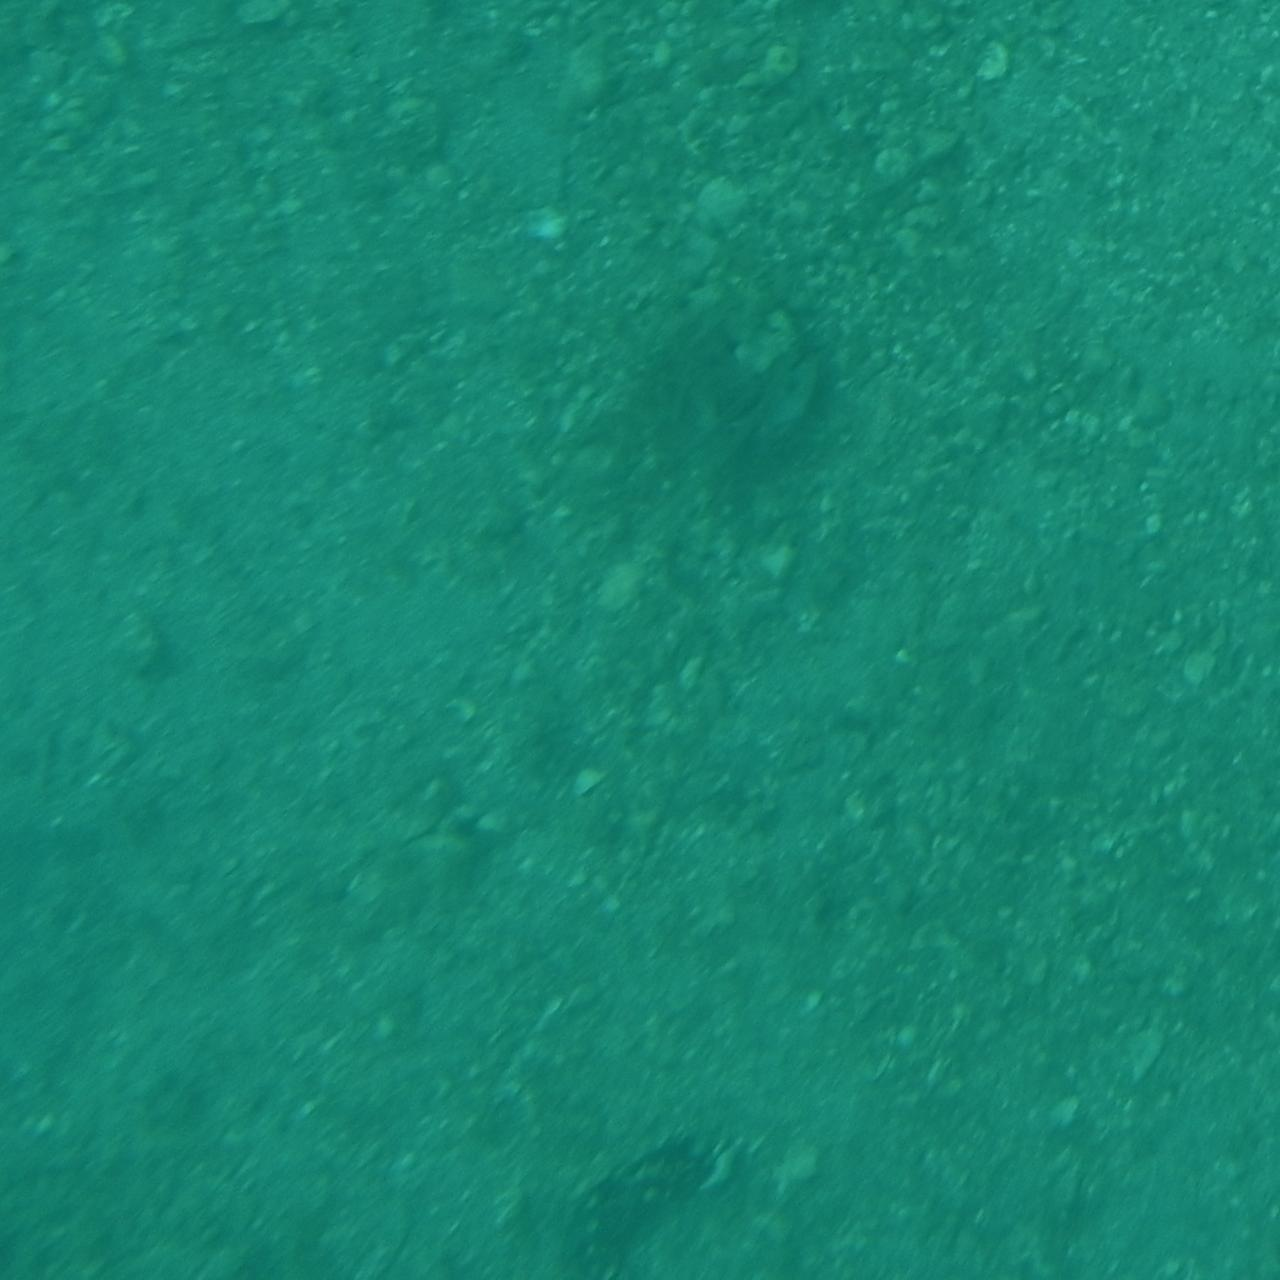Holothuria tubulosa: (522, 1116, 758, 1279)
